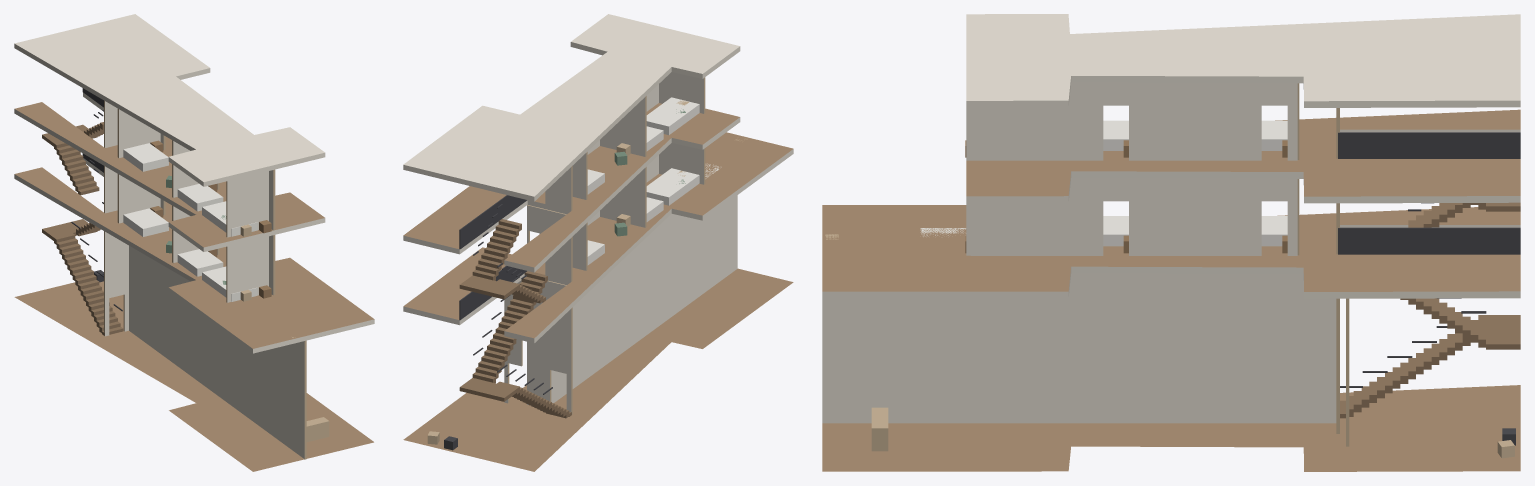
File: interior.glb
The picture shows the model from 3 angles, left to right: view 1: azimuth 30°, elevation 25°; view 2: azimuth 150°, elevation 25°; view 3: azimuth 270°, elevation 25°; orthographic projection. The views are drawn at different scales.
Visible parts, largest first — view 1: slabs, partitions, stair, coarse-s2, coarse-s1, coarse-s0; view 2: slabs, partitions, stair, coarse-s1, coarse-s2; view 3: slabs, partitions, stair, coarse-s1, coarse-s2, coarse-s0.
Boxes of the visible parts, x1,y1,x2,y2 form: slabs: (14, 14, 374, 471); partitions: (104, 100, 306, 459); stair: (42, 88, 123, 335); coarse-s2: (123, 140, 271, 236); coarse-s1: (123, 206, 295, 337); coarse-s0: (94, 270, 329, 442); slabs: (403, 14, 793, 471); partitions: (504, 72, 737, 414); stair: (459, 195, 571, 418); coarse-s1: (587, 138, 747, 265); coarse-s2: (587, 97, 699, 194); slabs: (822, 14, 1520, 471); partitions: (822, 82, 1349, 446); stair: (1338, 132, 1520, 418); coarse-s1: (825, 216, 1287, 253); coarse-s2: (965, 120, 1287, 157); coarse-s0: (871, 407, 1515, 458).
Bounding box in the file's own units: 7.16 × 14.2 × 24.21.
